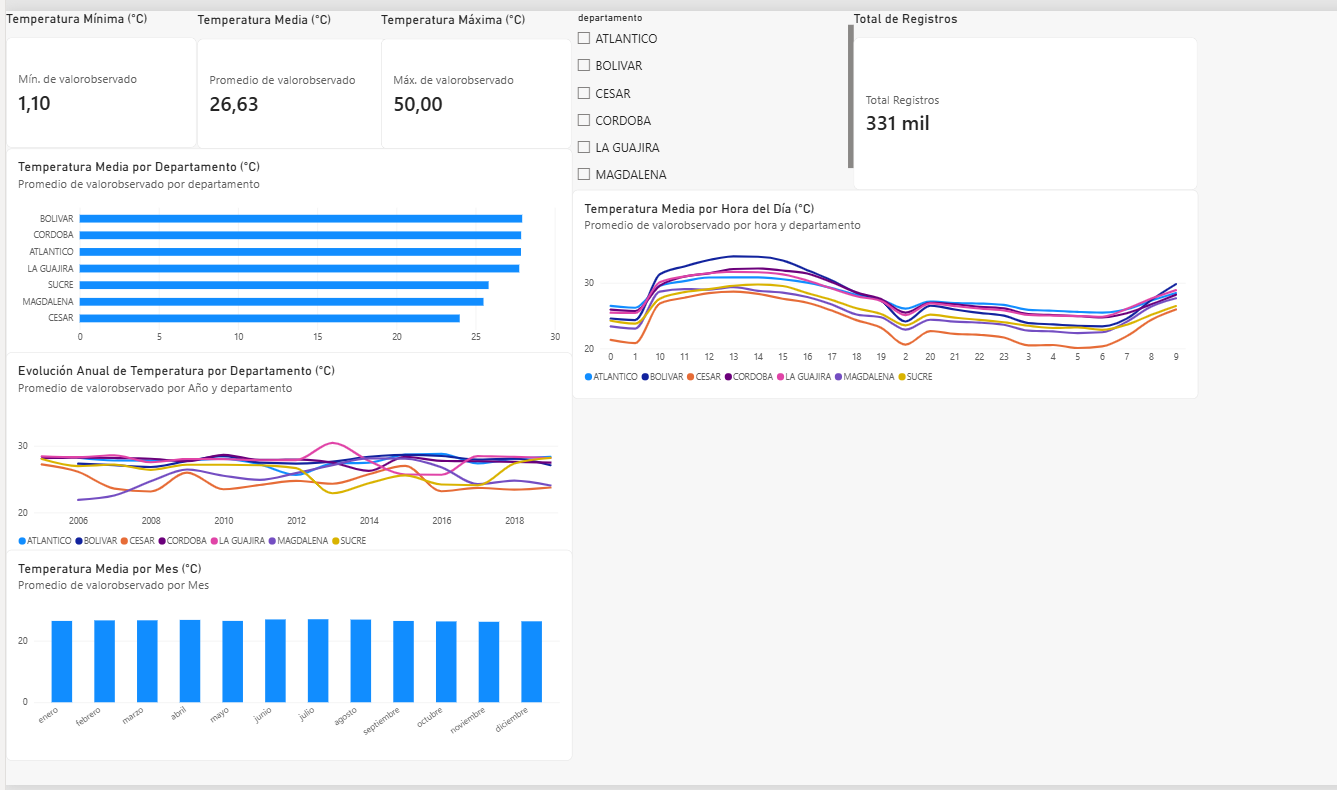

This screenshot's page, from the dashboard's own definition file:
{"tool":"powerbi","page":{"name":"Página 1","canvas":[1920,1080],"ordinal":0},"visuals":[{"type":"cardVisual","title":"Temperatura Media (°C)","fields":{"Data":["Avg(public temperatura_aire.valorobservado)"]},"box":[266.2,1.2,265.7,191.4],"z":0},{"type":"cardVisual","title":"Temperatura Mínima (°C)","fields":{"Data":["Min(public temperatura_aire.valorobservado)"]},"box":[0,0,266,191],"z":1},{"type":"cardVisual","title":"Temperatura Máxima (°C)","fields":{"Data":["Max(public temperatura_aire.valorobservado)"]},"box":[523.8,1.2,266,191],"z":2},{"type":"clusteredBarChart","title":"Temperatura Media por Departamento (°C)","fields":{"Category":["public temperatura_aire.departamento"],"Y":["Avg(public temperatura_aire.valorobservado)"]},"box":[0,191.2,790,293.8],"z":3},{"type":"lineChart","title":"Evolución Anual de Temperatura por Departamento (°C)","fields":{"Category":["public temperatura_aire.fechaobservacion.Variation.Jerarquía de fechas.Año"],"Series":["public temperatura_aire.departamento"],"Y":["Avg(public temperatura_aire.valorobservado)"]},"box":[0,476.2,790,293.8],"z":4},{"type":"slicer","fields":{"Values":["public temperatura_aire.departamento"]},"box":[790,0,392.5,250],"z":5},{"type":"clusteredColumnChart","title":"Temperatura Media por Mes (°C)","fields":{"Category":["public temperatura_aire.fechaobservacion.Variation.Jerarquía de fechas.Mes"],"Y":["Avg(public temperatura_aire.valorobservado)"]},"box":[0,752.5,790,294],"z":6},{"type":"lineChart","title":"Temperatura Media por Hora del Día (°C)","fields":{"Category":["public temperatura_aire_limpia.hora"],"Series":["public temperatura_aire.departamento"],"Y":["Avg(public temperatura_aire.valorobservado)"]},"box":[790,250,873.3,291.7],"z":7},{"type":"cardVisual","title":"Total de Registros","fields":{"Data":["public temperatura_aire.Total Registros"]},"box":[1183,0,480,250],"z":8}]}

Visuals, with their boxes on the page's 1920x1080 design canvas (x1, y1, x2, y2). These are canvas units, not pixel positions in the 1337x790 screenshot, which may show the page scaled, cropped or inside an application window:
"Temperatura Media (°C)" cardVisual: pyautogui.locateOnScreen(266, 1, 532, 193)
"Temperatura Mínima (°C)" cardVisual: pyautogui.locateOnScreen(0, 0, 266, 191)
"Temperatura Máxima (°C)" cardVisual: pyautogui.locateOnScreen(524, 1, 790, 192)
"Temperatura Media por Departamento (°C)" clusteredBarChart: pyautogui.locateOnScreen(0, 191, 790, 485)
"Evolución Anual de Temperatura por Departamento (°C)" lineChart: pyautogui.locateOnScreen(0, 476, 790, 770)
slicer - public temperatura_aire.departamento: pyautogui.locateOnScreen(790, 0, 1182, 250)
"Temperatura Media por Mes (°C)" clusteredColumnChart: pyautogui.locateOnScreen(0, 752, 790, 1046)
"Temperatura Media por Hora del Día (°C)" lineChart: pyautogui.locateOnScreen(790, 250, 1663, 542)
"Total de Registros" cardVisual: pyautogui.locateOnScreen(1183, 0, 1663, 250)
